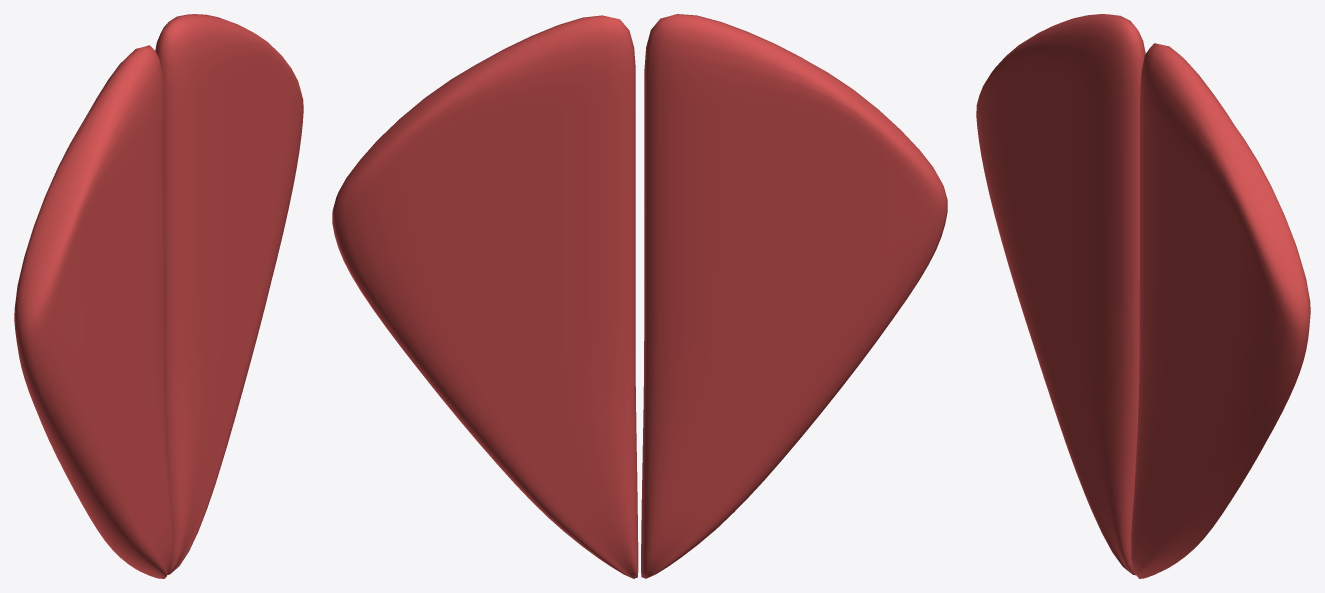
The model's file is Heart.fbx.
The picture shows the model from 3 angles, left to right: view 1: azimuth 30°, elevation 25°; view 2: azimuth 150°, elevation 25°; view 3: azimuth 270°, elevation 25°; orthographic projection. The views are drawn at different scales.
Visible parts, largest first — view 1: PlaneandEnvironment:pPlane3; view 2: PlaneandEnvironment:pPlane3; view 3: PlaneandEnvironment:pPlane3.
Boxes of the visible parts, x1=… form: PlaneandEnvironment:pPlane3: x1=14, y1=14, x2=303, y2=578; PlaneandEnvironment:pPlane3: x1=332, y1=14, x2=947, y2=578; PlaneandEnvironment:pPlane3: x1=976, y1=14, x2=1310, y2=578.
Bounding box in the file's own units: 2.47 × 2.94 × 1.64.
